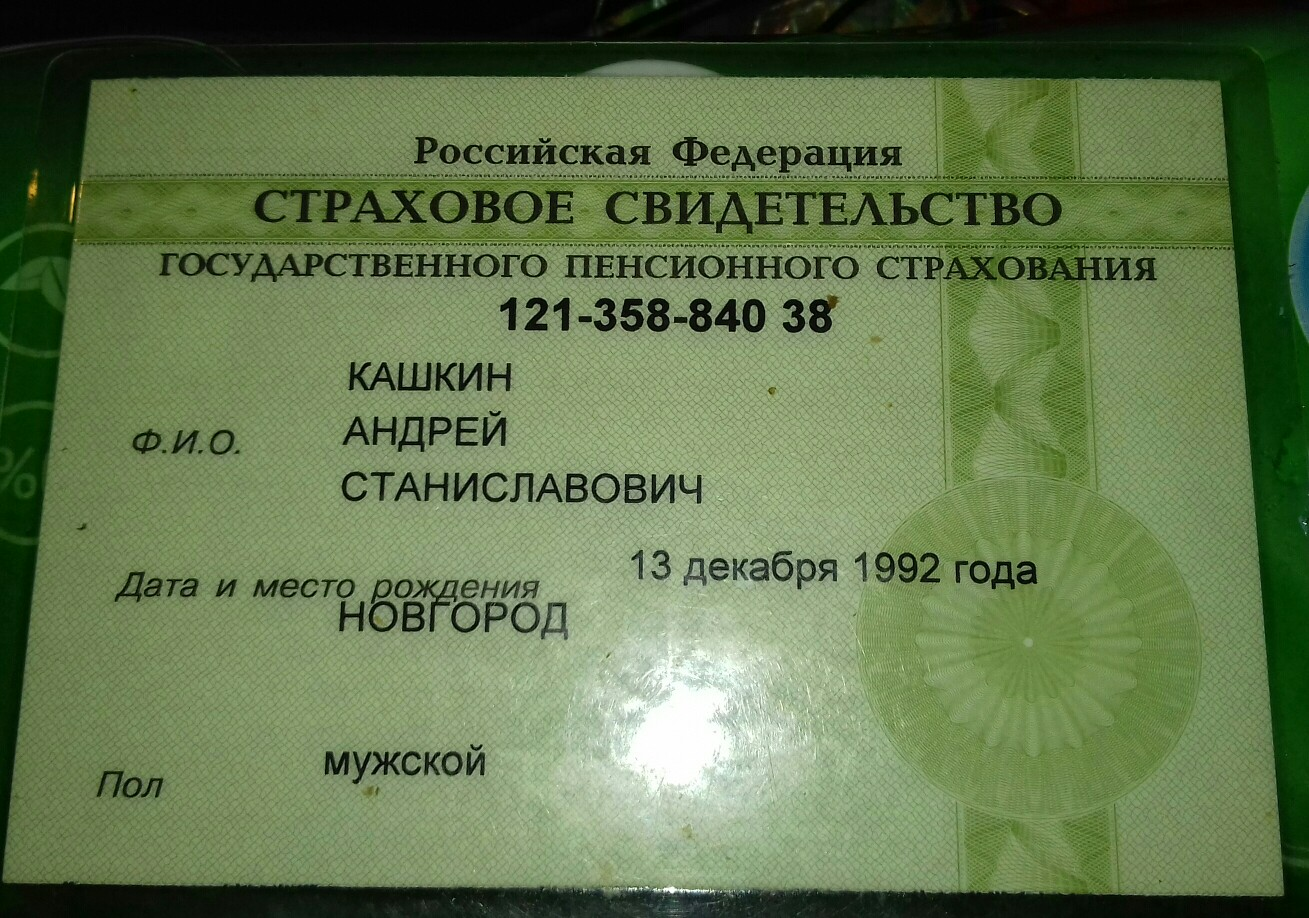text: (328, 355, 721, 511), (619, 538, 1050, 591), (484, 283, 832, 345), (322, 597, 589, 643), (306, 744, 502, 780)
